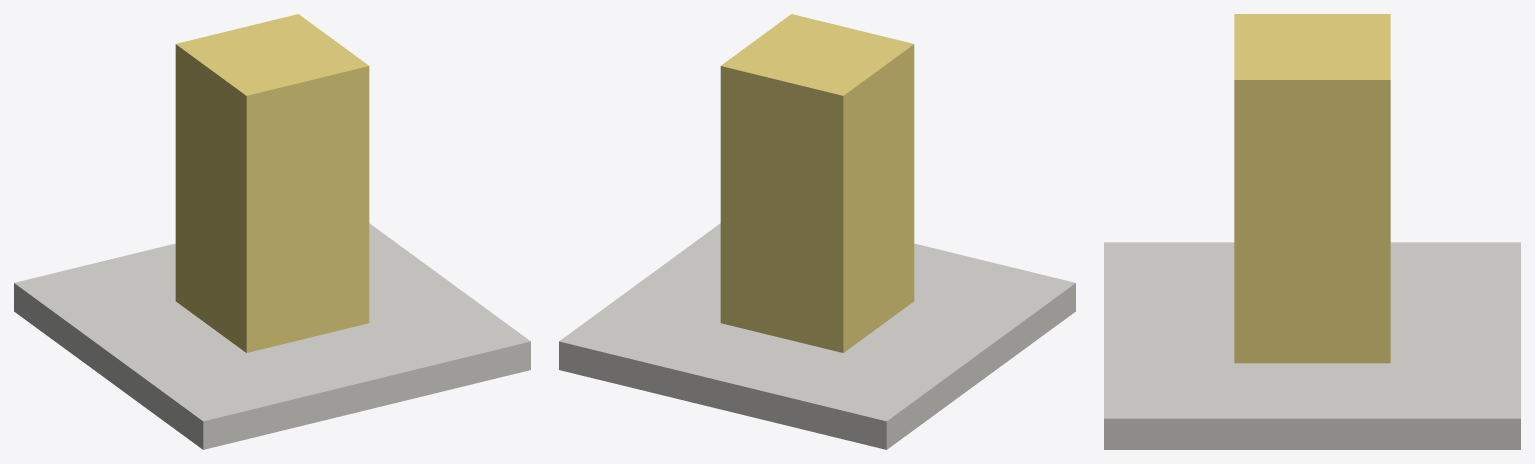
File: pilot-tower.glb
3 views of the same model, side by side, from view 1: azimuth 30°, elevation 25°; view 2: azimuth 150°, elevation 25°; view 3: azimuth 270°, elevation 25° (orthographic). The views are drawn at different scales.
Parts seen in each view (by area): view 1: tower, slab; view 2: tower, slab; view 3: slab, tower.
Part boxes in pixels (box(x1,y1,x2,y2)): tower: box(175, 14, 369, 352); slab: box(14, 223, 530, 449); tower: box(720, 14, 914, 352); slab: box(559, 223, 1075, 449); slab: box(1104, 242, 1520, 449); tower: box(1234, 14, 1390, 363).
Bounding box in the file's own units: 2.4 × 2 × 2.4.
